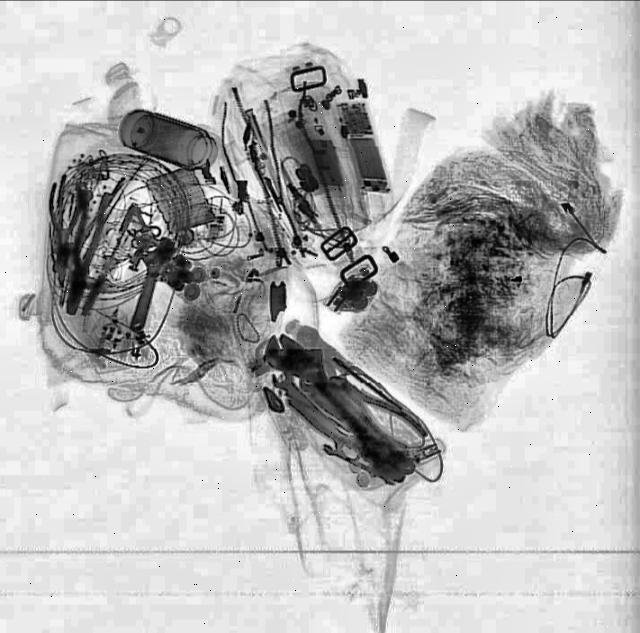Pliers: (324, 365, 432, 459), (54, 188, 116, 316), (41, 180, 85, 274)
Wrench: (254, 320, 431, 488), (271, 367, 353, 451), (121, 232, 183, 338)
